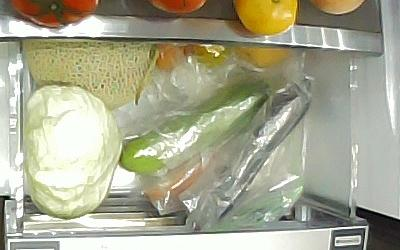cabbage: (24, 85, 121, 219)
carrot_vinyl: (143, 150, 220, 199)
eggplant_vinyl: (191, 79, 313, 233)
melon: (23, 41, 158, 110)
pear_vinyl: (235, 46, 294, 67)
tangerine_vinyl: (188, 43, 233, 69)
tomato_vinyl: (149, 42, 184, 71)
zucchini_vinyl: (119, 75, 284, 175)
